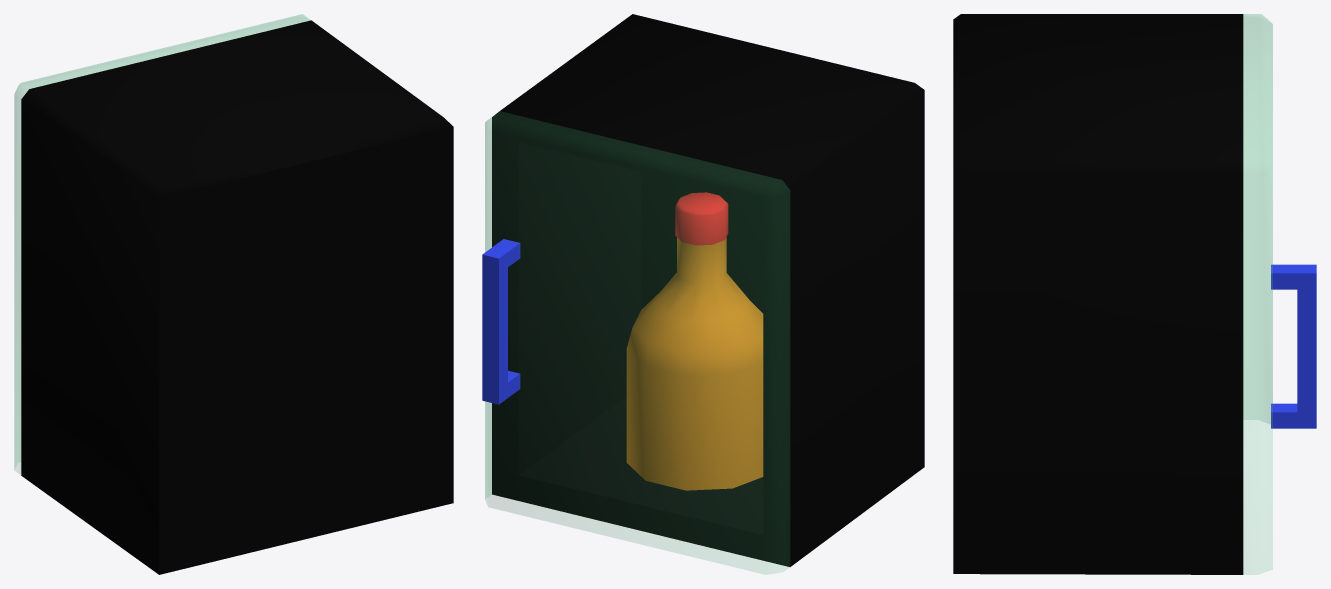
The model's file is tu lanh dung ruou sake.FBX.
The picture shows the model from 3 angles, left to right: view 1: azimuth 30°, elevation 25°; view 2: azimuth 150°, elevation 25°; view 3: azimuth 270°, elevation 25°; orthographic projection. The views are drawn at different scales.
Visible parts, largest first — view 1: Object269; view 2: Object269; view 3: Object269.
Boxes of the visible parts, x1,y1,x2,y2 form: Object269: [14, 14, 453, 574]; Object269: [482, 14, 924, 574]; Object269: [953, 14, 1316, 574].
Bounding box in the file's own units: 1.47 × 1.82 × 1.46.
